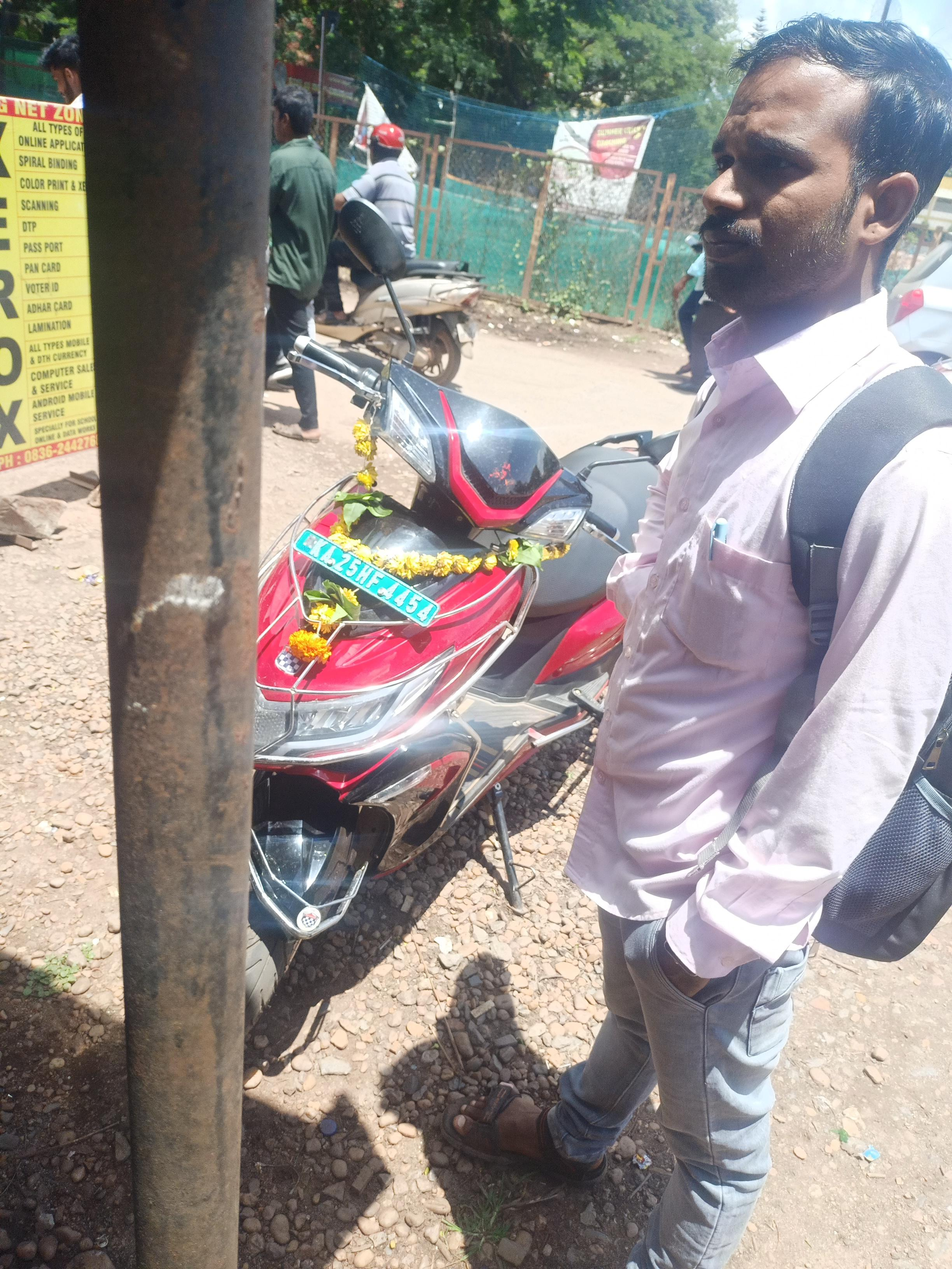green license plate: (274, 522, 450, 637)
